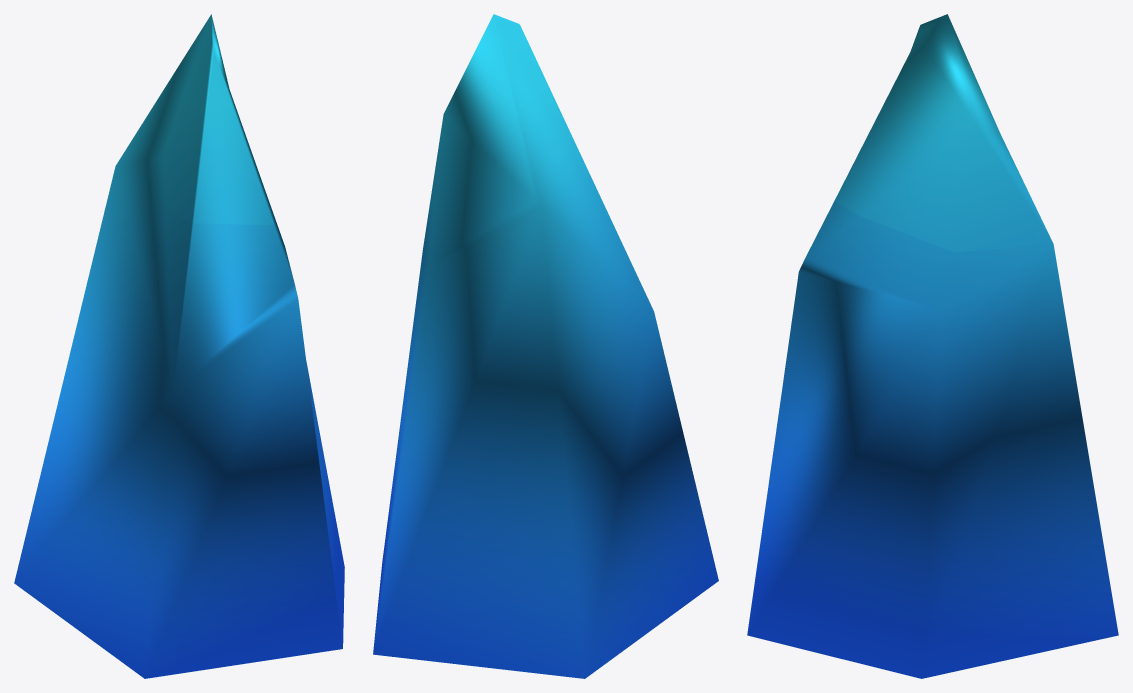
Rendered from ice_spike.fbx.
3 views of the same model, side by side, from view 1: azimuth 30°, elevation 25°; view 2: azimuth 150°, elevation 25°; view 3: azimuth 270°, elevation 25° (orthographic). The views are drawn at different scales.
Visible parts, largest first — view 1: Ice_Spike; view 2: Ice_Spike; view 3: Ice_Spike.
Part boxes in pixels (x1=…): Ice_Spike: x1=14, y1=14, x2=344, y2=678; Ice_Spike: x1=373, y1=14, x2=718, y2=678; Ice_Spike: x1=747, y1=14, x2=1118, y2=678.
Size of the model in its own units: 6.95 by 14.43 by 8.06.
Materials: 1 (1 with a texture image).
